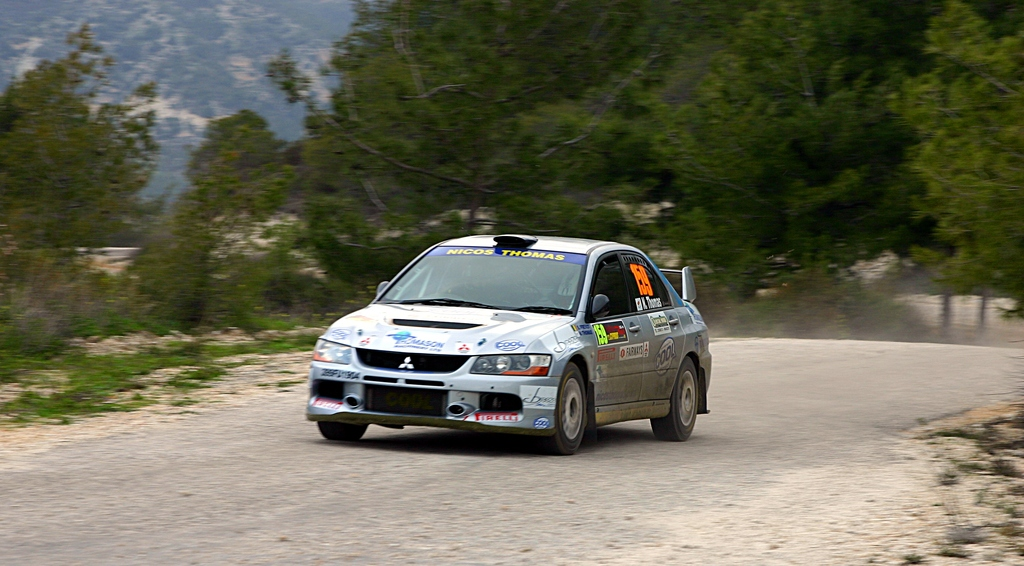Car: (300, 230, 722, 451)
